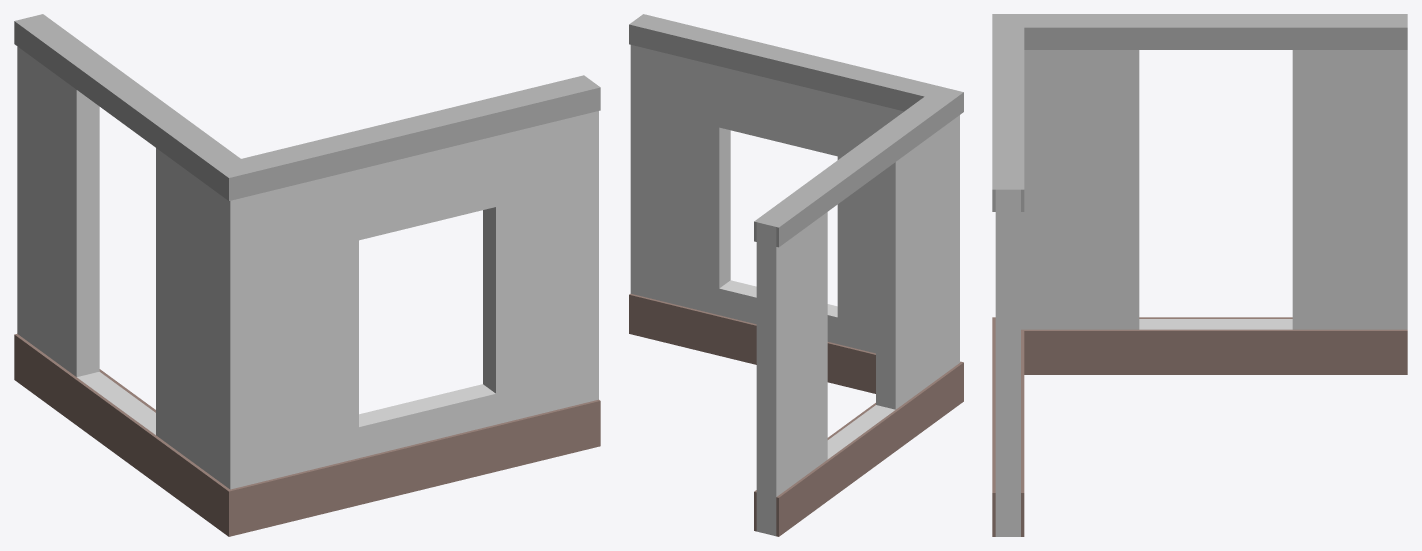
Rendered from Wall04-06.fbx.
3 renders of one model, left to right at view 1: azimuth 30°, elevation 25°; view 2: azimuth 150°, elevation 25°; view 3: azimuth 270°, elevation 25°, orthographic. The views are drawn at different scales.
Visible parts, largest first — view 1: Wall04-06; view 2: Wall04-06; view 3: Wall04-06.
Part boxes in pixels (x1,y1,x2,y2): Wall04-06: (14, 14, 600, 536); Wall04-06: (629, 14, 963, 536); Wall04-06: (992, 14, 1407, 536).
Size of the model in its own units: 3.25 by 3.25 by 3.
